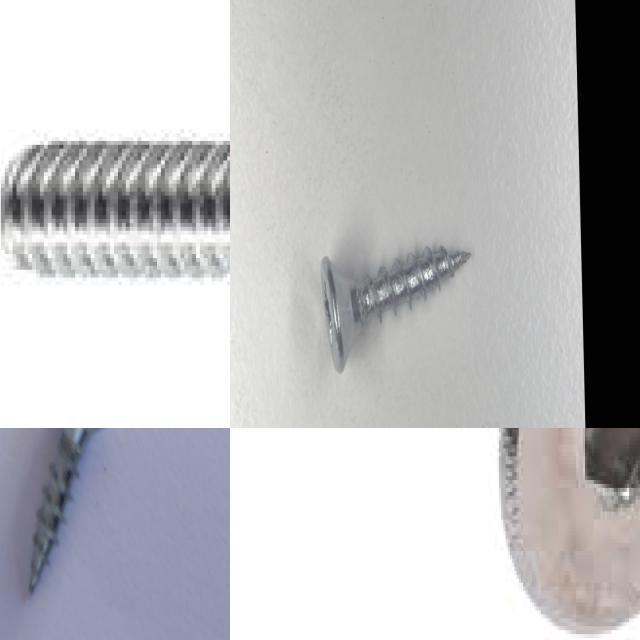Screw: (0, 145, 230, 281), (495, 428, 640, 638), (320, 245, 471, 372), (29, 428, 101, 594)
